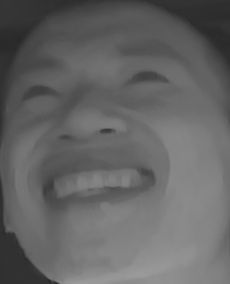eye: (122, 62, 173, 97), (15, 76, 63, 101)
mouth: (32, 152, 159, 214)
